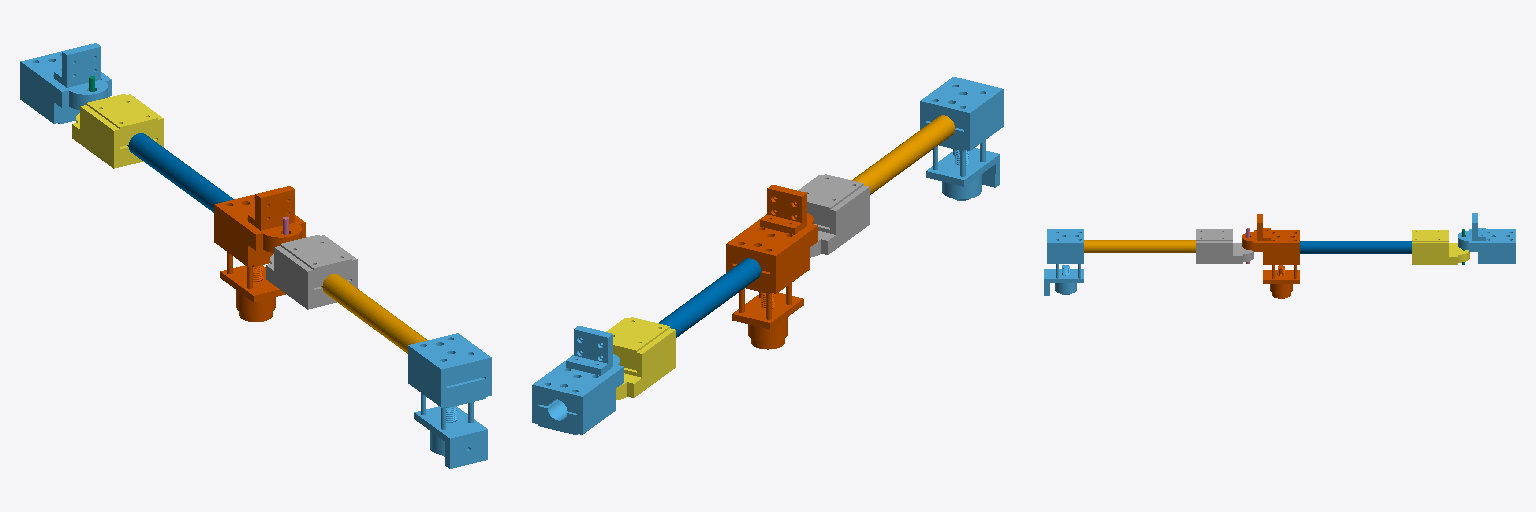
robot.urdf — visual:
<?xml version="1.0"?>
<robot name="visual">
  <link name="world" />
  <joint name="base_joint" type="fixed">
    <parent link="world" />
    <child link="base_link" />
    <origin rpy="0 0 0" xyz="0 0 0" />
    <axis xyz="0 0 1" />
  </joint>
  <material name="blue">
    <color rgba="0 0 0.8 1" />
  </material>
  <material name="black">
    <color rgba="0 0 0 1" />
  </material>
  <material name="white">
    <color rgba="1 1 1 1" />
  </material>

  <link name="base_link">
    <inertial>
      <origin xyz="0 0 0" rpy="0 0 0" />
      <mass value="0.202375" />
      <inertia ixx="2.649040342481711" ixy="0" ixz="0" iyy="2.1725926943344827" iyz="0"
        izz="1.4967549398138948" />
    </inertial>
    <visual>
      <origin rpy="-1.57075 0 0" xyz="0 0 0" />

      <geometry>
        <mesh filename="package://modularm/description/meshes/base_link.stl" scale="0.1 0.1 0.1" />
      </geometry>
    </visual>
    <collision>
      <origin rpy="-1.57075 0 0" xyz="0 0 0" />
      <geometry>
        <mesh filename="package://modularm/description/meshes/base_link.stl" scale="0.1 0.1 0.1" />
      </geometry>
    </collision>

  </link>

  <joint name="joint_shaft" type="revolute">
    <parent link="base_link" />
    <child link="shaft" />
    <origin xyz="0 -3.8 -0.1" rpy="0 0 0 " />
    <axis xyz="0 0 1" />
    <limit lower="-1.0" upper="1.0" effort="100" velocity="100" />
  </joint>
  <link name="shaft">
    <inertial>
      <origin xyz="0 0 0" rpy="0 0 0" />
      <mass value="0.0106056" />
      <inertia ixx="0.0009667540031041288" ixy="0" ixz="0" iyy="0.03840272359835456" iyz="0"
        izz="0.038403118043430114" />
    </inertial>
    <visual>
      <origin rpy="0.0 1.57075 0" xyz="0 0 0" />

      <geometry>
        <mesh filename="package://modularm/description/meshes/shaft.stl" scale="0.1 0.1 0.1" />
      </geometry>
    </visual>
    <collision>
      <origin rpy="0.0 1.57075 0" xyz="0 -0 0" />
      <geometry>
        <mesh filename="package://modularm/description/meshes/shaft.stl" scale="0.1 0.1 0.1" />
      </geometry>
    </collision>

  </link>
  <joint name="shaft_joint" type="fixed">
    <parent link="shaft" />
    <child link="clamp" />
    <origin xyz="0 -3.8 0" rpy="0 0 0" />
    <axis xyz="0 0 1" />
    <limit lower="-1.0" upper="1.0" effort="100" velocity="100" />
  </joint>
  <link name="clamp">
    <inertial>
      <origin xyz="0 0 0" rpy="0 0 0" />
      <mass value="0.17975" />
      <inertia ixx="1.7407693359722893" ixy="0" ixz="0" iyy="1.929656627638956" iyz="0"
        izz="0.7173522916666666" />
    </inertial>
    <visual>
      <origin rpy="1.57075 0 0" xyz="0 0 0" />

      <geometry>
        <mesh filename="package://modularm/description/meshes/clamp.stl" scale="0.1 0.1 0.1" />
      </geometry>
    </visual>
    <collision>
      <origin rpy="1.57075 0 0" xyz="0 0 0" />
      <geometry>
        <mesh filename="package://modularm/description/meshes/clamp.stl" scale="0.1 0.1 0.1" />
      </geometry>
    </collision>
  </link>
  <joint name="joint_link" type="fixed">
    <parent link="clamp" />
    <child link="link" />
    <origin xyz="0 -3.8 0" rpy="0 0 0" />
    <axis xyz="1 0 0" />
    <limit lower="-1.0" upper="1.0" effort="100" velocity="100" />
  </joint>
  <link name="link">
    <inertial>
      <origin xyz="0 0 0" rpy="0 0 0" />
      <mass value="0.2565891" />
      <inertia ixx="0.2064229709124354" ixy="0" ixz="0" iyy="13.467320145246996" iyz="0"
        izz="13.467134075665442" />
    </inertial>
    <visual>
      <origin rpy="0 0 -1.57075" xyz="0 0 0" />

      <geometry>
        <mesh filename="package://modularm/description/meshes/link.stl" scale="0.1 0.1 0.1" />
      </geometry>
    </visual>
    <collision>
      <origin rpy="0 0 -1.57075" xyz="0 0 0" />
      <geometry>
        <mesh filename="package://modularm/description/meshes/link.stl" scale="0.1 0.1 0.1" />
      </geometry>
    </collision>
  </link>
  <joint name="joint2" type="fixed">
    <parent link="link" />
    <child link="clamp2" />
    <origin xyz="0 -25.5 0" rpy="0 0 0" />
    <axis xyz="1 0 0" />
    <limit lower="-1.0" upper="1.0" effort="100" velocity="100" />
  </joint>
  <link name="clamp2">
    <inertial>
      <origin xyz="0 0 0" rpy="0 0 0" />
      <mass value="0.763875" />
      <inertia ixx="19.565862381636535" ixy="0" ixz="0" iyy="8.202420113932234" iyz="0"
        izz="15.2146453927043" />
    </inertial>
    <visual>
      <origin rpy="1.57075 -3.1415 -3.1415" xyz="0 0 0" />

      <geometry>
        <mesh filename="package://modularm/description/meshes/clamptop.stl" scale="0.1 0.1 0.1" />
      </geometry>
    </visual>
    <collision>
      <origin rpy="1.57075 -3.1415 -3.1415" xyz="0 0 0" />
      <geometry>
        <mesh filename="package://modularm/description/meshes/clamptop.stl" scale="0.1 0.1 0.1" />
      </geometry>
    </collision>
  </link>
  <joint name="joint_shaft2" type="revolute">

    <parent link="clamp2" />
    <child link="shaft2" />
    <origin xyz="0 -3.8 0.1" rpy="0 0 0" />
    <axis xyz="0 0 1" />
    <limit lower="-1.0" upper="1.0" effort="100" velocity="100" />
  </joint>
  <link name="shaft2">
    <inertial>
      <origin xyz="0 0 0" rpy="0 0 0" />
      <mass value="0.0106056" />
      <inertia ixx="0.0009667540031041288" ixy="0" ixz="0" iyy="0.03840272359835456" iyz="0"
        izz="0.038403118043430114" />
    </inertial>
    <visual>
      <origin rpy="0.0 1.57075 0" xyz="0 0 0" />
      <geometry>
        <mesh filename="package://modularm/description/meshes/shaft.stl" scale="0.1 0.1 0.1" />
      </geometry>
    </visual>
    <collision>
      <origin rpy="0.0 1.57075 0" xyz="0 0 0" />
      <geometry>
        <mesh filename="package://modularm/description/meshes/shaft.stl" scale="0.1 0.1 0.1" />
      </geometry>
    </collision>
  </link>


  <joint name="shaft_joint2" type="fixed">
    <parent link="shaft2" />
    <child link="clampb2" />
    <origin xyz="0 -3.8 0" rpy="0 0 0" />
    <axis xyz="0 0 1" />
    <limit lower="-1.0" upper="1.0" effort="100" velocity="100" />
  </joint>
  <link name="clampb2">
    <inertial>
      <origin xyz="0 0 0" rpy="0 0 0" />
      <mass value="0.17975" />
      <inertia ixx="1.7407693359722893" ixy="0" ixz="0" iyy="1.929656627638956" iyz="0"
        izz="0.7173522916666666" />
    </inertial>
    <visual>
      <origin rpy="1.57075 0 0" xyz="0 0 0" />

      <geometry>
        <mesh filename="package://modularm/description/meshes/clamp.stl" scale="0.1 0.1 0.1" />
      </geometry>
    </visual>
    <collision>
      <origin rpy="1.57075 0 0" xyz="0 0 0" />
      <geometry>
        <mesh filename="package://modularm/description/meshes/clamp.stl" scale="0.1 0.1 0.1" />
      </geometry>
    </collision>
  </link>
  <joint name="joint_link2" type="fixed">
    <parent link="clampb2" />
    <child link="link2" />
    <origin xyz="0 -3.8 0" rpy="0 0 0" />
    <axis xyz="1 0 0" />
    <limit lower="-1.0" upper="1.0" effort="100" velocity="100" />
  </joint>
  <link name="link2">
    <inertial>
      <origin xyz="0 0 0" rpy="0 0 0" />
      <mass value="0.2565891" />
      <inertia ixx="0.2064229709124354" ixy="0" ixz="0" iyy="13.467320145246996" iyz="0"
        izz="13.467134075665442" />
    </inertial>
    <visual>
      <origin rpy="0 0 -1.57075" xyz="0 0 0" />

      <geometry>
        <mesh filename="package://modularm/description/meshes/link.stl" scale="0.1 0.1 0.1" />
      </geometry>
    </visual>
    <collision>
      <origin rpy="0 0 -1.57075" xyz="0 0 0" />
      <geometry>
        <mesh filename="package://modularm/description/meshes/link.stl" scale="0.1 0.1 0.1" />
      </geometry>
    </collision>
  </link>
  <joint name="jointEE" type="fixed">
    <parent link="link2" />
    <child link="clampEE" />
    <origin xyz="0 -25.5 0" rpy="0 0 0" />
    <axis xyz="1 0 0" />
    <limit lower="-1.0" upper="1.0" effort="100" velocity="100" />
  </joint>
  <link name="clampEE">
    <inertial>
      <origin xyz="0 0 0" rpy="0 0 0" />
      <mass value="0.763875" />
      <inertia ixx="10.688951235393873" ixy="0" ixz="0" iyy="4.9125119531250006" iyz="0"
        izz="9.627642407268873" />
    </inertial>
    <visual>
      <origin rpy="1.57075 -3.1415 -3.1415" xyz="0 0 0" />
      <geometry>
        <mesh filename="package://modularm/description/meshes/clampEE.stl" scale="0.1 0.1 0.1" />
      </geometry>
    </visual>
    <collision>
      <origin rpy="1.57075 -3.1415 -3.1415" xyz="0 0 0" />
      <geometry>
        <mesh filename="package://modularm/description/meshes/clampEE.stl" scale="0.1 0.1 0.1" />
      </geometry>
    </collision>
  </link>
  <ros2_control name="robot_6_dof" type="system">
    <hardware>
      <plugin>
        <!-- {Name_Space}/{Class_Name}-->
      </plugin>
    </hardware>
    <joint name="joint_shaft">
      <command_interface name="position">
        <param name="min">{-pi}</param>
        <param name="max">{pi}</param>
      </command_interface>
      <!-- additional command interfaces ... -->
      <state_interface name="position">
        <param name="initial_value">0.0</param>
      </state_interface>
      <!-- additional state interfaces ... -->
    </joint>
    <joint name="joint_shaft2">
      <command_interface name="position">
        <param name="min">{-pi}</param>
        <param name="max">{pi}</param>
      </command_interface>

      <command_interface name="velocity">
      </command_interface>
      <!-- additional command interfaces ... -->
      <state_interface name="velocity">
        <param name="initial_value">0.0</param>
      </state_interface>
      <state_interface name="velocity">
        <param name="initial_value">0.0</param>
      </state_interface>
      <!-- additional state interfaces ... -->
    </joint>
    <!-- additional joints ...-->
    <!-- additional hardware/sensors ...-->
  </ros2_control>
</robot>

--- Render facts (derived) ---
3 views of the same robot in one strip: view 1: azimuth 30°, elevation 25°; view 2: azimuth 150°, elevation 25°; view 3: azimuth 270°, elevation 25° (orthographic).
Robot: visual — 10 links, 9 joints (2 revolute, 7 fixed); root link world; default pose: all joints at 0.
Visible links, largest first — view 1: clampEE, clamp2, base_link, clampb2, clamp, link, link2; view 2: clamp2, clampEE, base_link, clampb2, clamp, link, link2; view 3: clamp2, clampEE, base_link, clamp, clampb2, link, link2.
Boxes of the visible links, x1,y1,x2,y2 form: clampEE: (408,333,491,468); clamp2: (214,186,305,321); base_link: (20,43,111,123); clampb2: (266,235,357,309); clamp: (72,94,163,168); link: (127,133,233,212); link2: (321,274,427,353); clamp2: (726,185,817,349); clampEE: (920,77,1003,200); base_link: (532,326,623,434); clampb2: (798,174,869,257); clamp: (606,317,675,399); link: (659,258,761,337); link2: (852,115,955,194); clamp2: (1242,214,1299,298); clampEE: (1044,229,1083,295); base_link: (1458,213,1515,263); clamp: (1412,230,1469,264); clampb2: (1196,229,1253,263); link: (1300,241,1411,253); link2: (1084,240,1195,252).
Size in the robot's own frame: 5.5 by 80.65 by 14.55 metres.
Meshes: 6 distinct files referenced, 9 mesh visuals loaded (6 binary STL).
